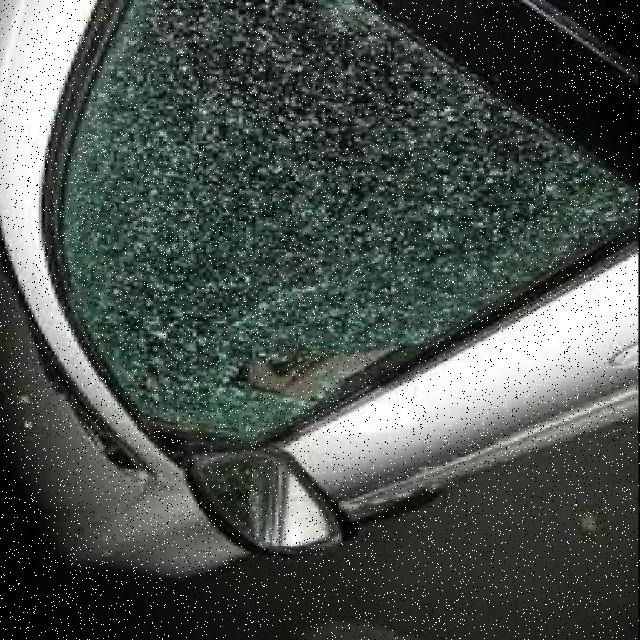damage: (73, 0, 640, 456)
